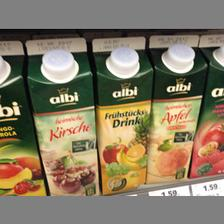Saft: (24, 36, 100, 194), (91, 34, 155, 194), (146, 34, 206, 182), (0, 40, 48, 194)
